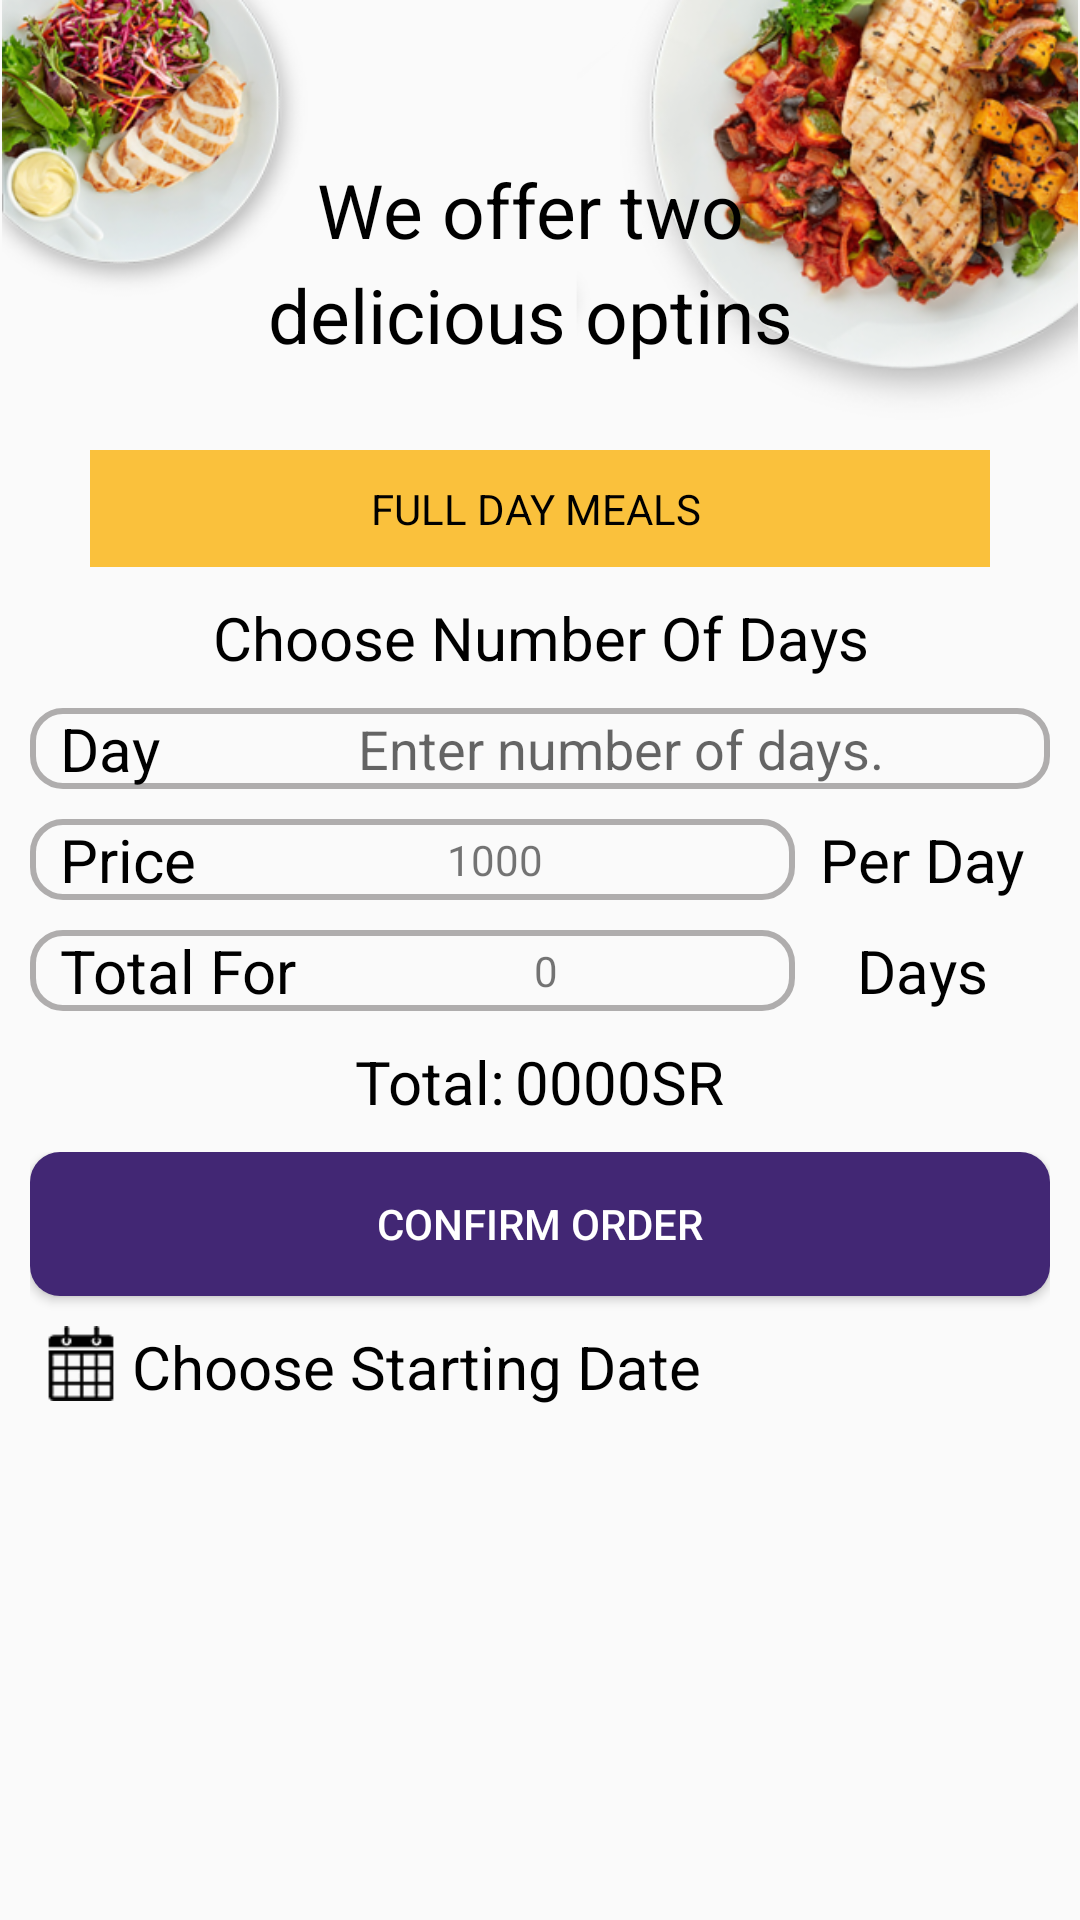

Icons on this 1080×1920 Android screen, each with its box as (x1, y1, x2, y2):
cal: (48, 1326, 114, 1401)
